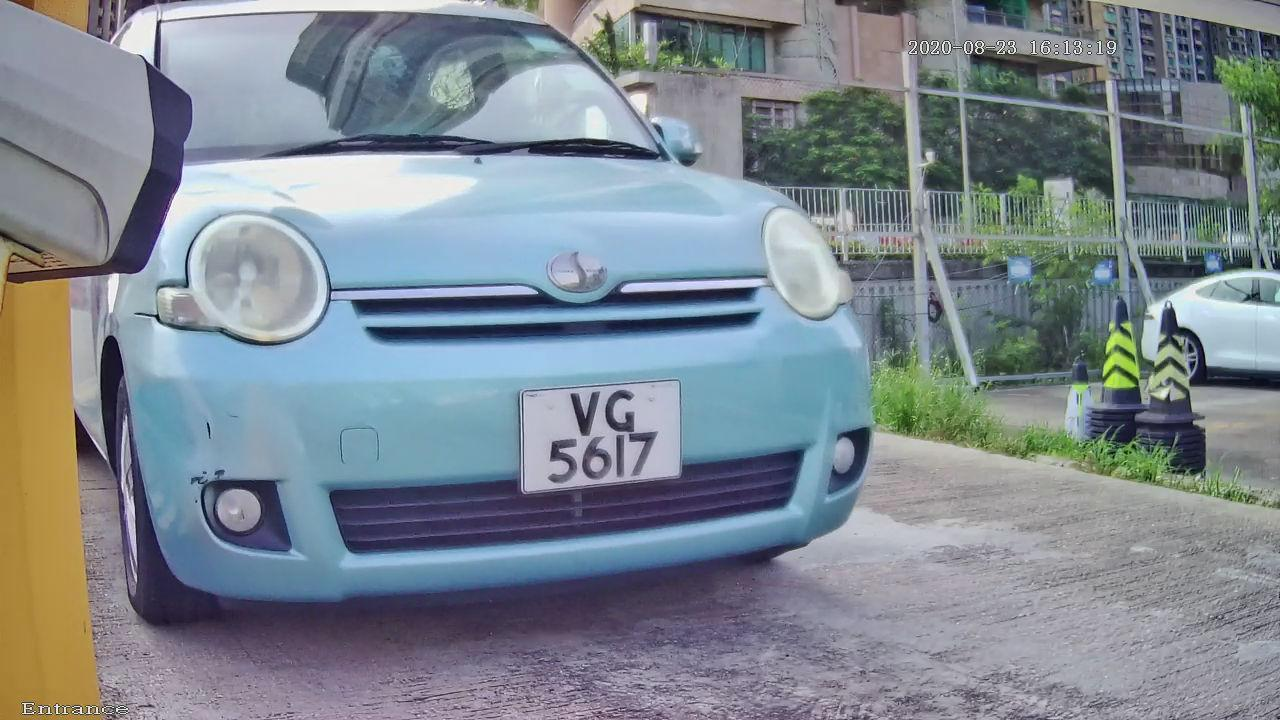Car: (29, 1, 932, 685)
License Plate: (509, 367, 698, 512)
